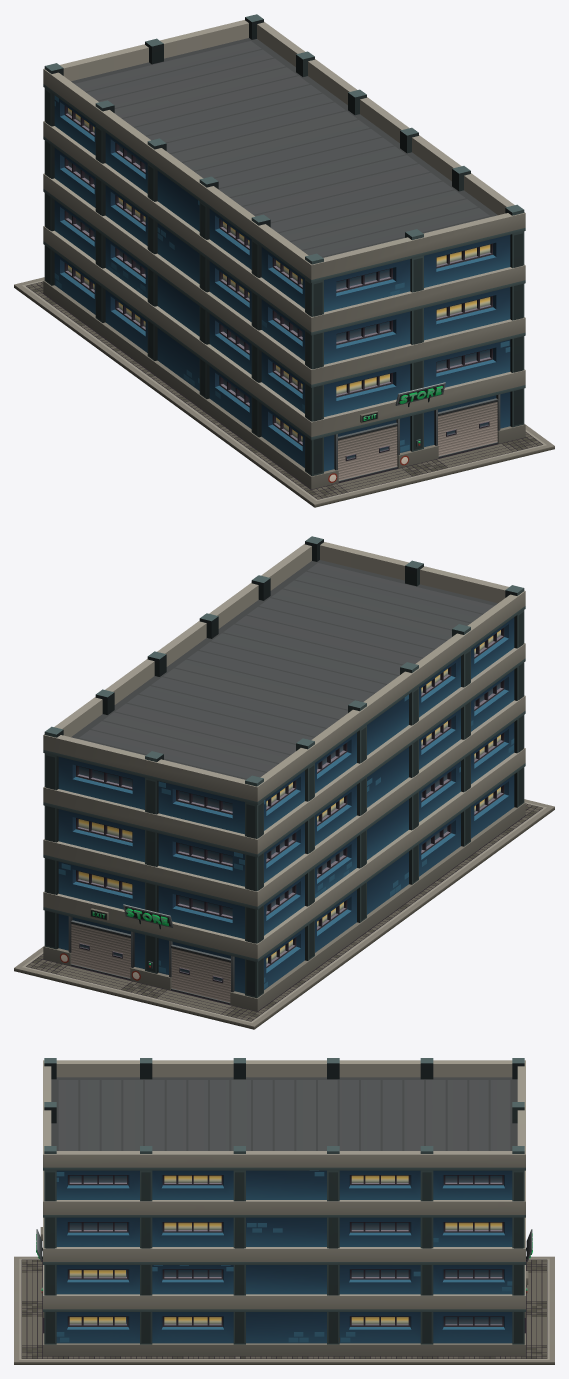
The model's file is Warehouse_4B.fbx.
3 renders of one model, top to bottom at view 1: azimuth 30°, elevation 25°; view 2: azimuth 150°, elevation 25°; view 3: azimuth 270°, elevation 25°, orthographic. The views are drawn at different scales.
Parts seen in each view (by area): view 1: Warehouse_4B, Warehouse_4B_Window_Lights; view 2: Warehouse_4B, Warehouse_4B_Window_Lights; view 3: Warehouse_4B, Warehouse_4B_Window_Lights.
Part boxes in pixels (bbox=[...]): Warehouse_4B: bbox=[14, 14, 554, 507]; Warehouse_4B_Window_Lights: bbox=[68, 108, 490, 441]; Warehouse_4B: bbox=[14, 536, 554, 1029]; Warehouse_4B_Window_Lights: bbox=[78, 630, 500, 963]; Warehouse_4B: bbox=[14, 1058, 554, 1364]; Warehouse_4B_Window_Lights: bbox=[69, 1175, 502, 1324].
Bounding box in the file's own units: 24 × 22 × 52.
